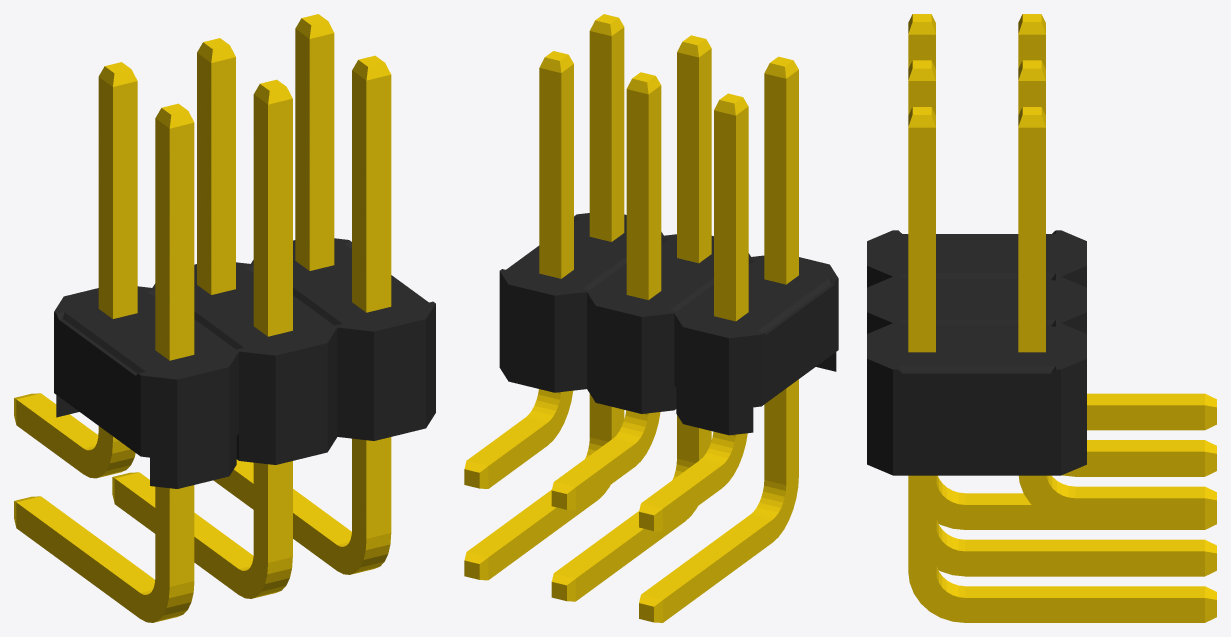
The model's file is PLD-6RD_(DS1022_CONNFLY).obj.
3 renders of one model, left to right at view 1: azimuth 30°, elevation 25°; view 2: azimuth 150°, elevation 25°; view 3: azimuth 270°, elevation 25°, orthographic. The views are drawn at different scales.
Parts seen in each view (by area): view 1: PLD-6RD_(DS1022_CONNFLY); view 2: PLD-6RD_(DS1022_CONNFLY); view 3: PLD-6RD_(DS1022_CONNFLY).
Boxes of the visible parts, x1=… form: PLD-6RD_(DS1022_CONNFLY): x1=14, y1=14, x2=435, y2=622; PLD-6RD_(DS1022_CONNFLY): x1=464, y1=14, x2=838, y2=622; PLD-6RD_(DS1022_CONNFLY): x1=867, y1=14, x2=1216, y2=622.
Bounding box in the file's own units: 0.0175 × 0.0296 × 0.0185.
